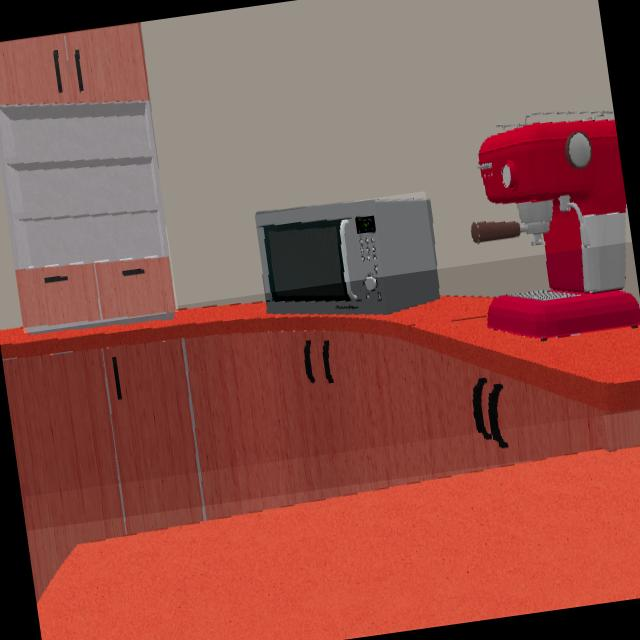cabinet: (2, 331, 605, 599), (0, 23, 176, 329)
countertop: (37, 445, 640, 640), (0, 296, 640, 415)
microwave: (256, 199, 439, 314)
